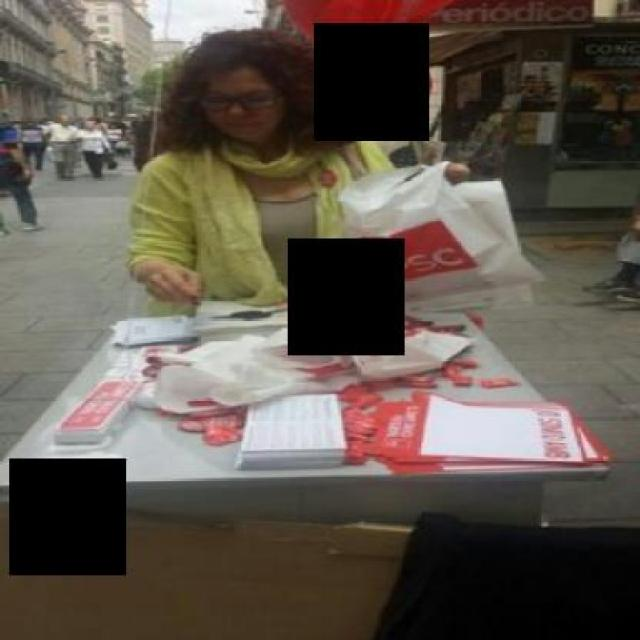plastic bag: (335, 158, 560, 314), (242, 320, 452, 382), (148, 345, 322, 417)
